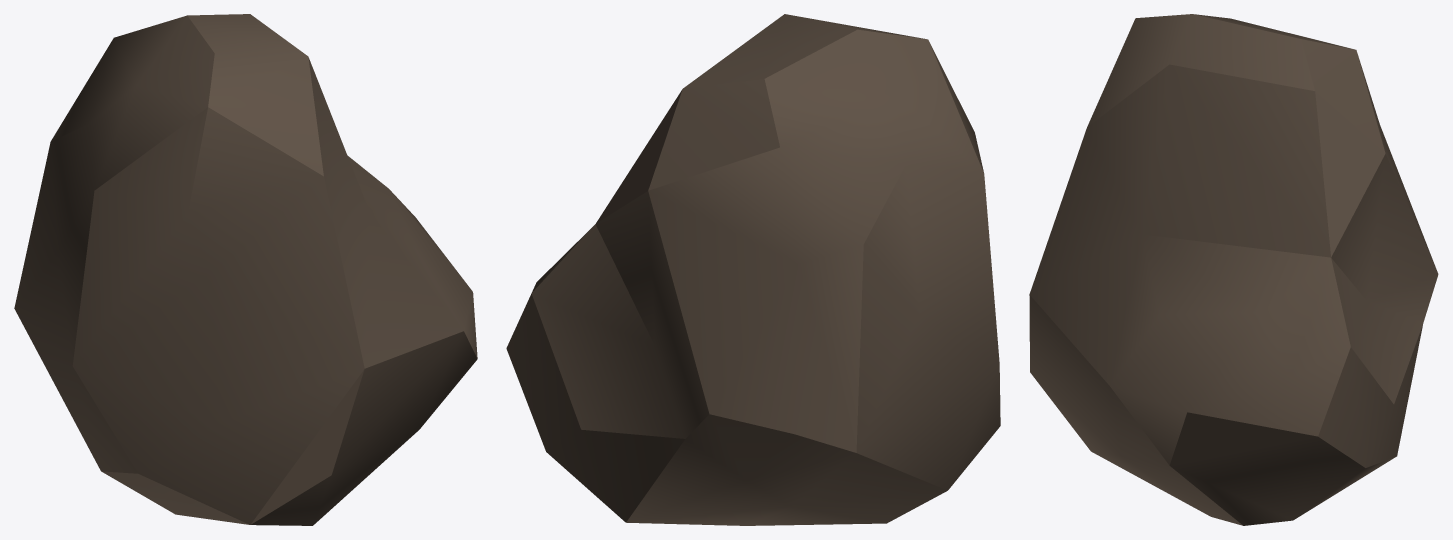
Rendered from rock_009.fbx.
3 renders of one model, left to right at view 1: azimuth 30°, elevation 25°; view 2: azimuth 150°, elevation 25°; view 3: azimuth 270°, elevation 25°, orthographic. The views are drawn at different scales.
Parts seen in each view (by area): view 1: rock.009; view 2: rock.009; view 3: rock.009.
Boxes of the visible parts, x1,y1,x2,y2 form: rock.009: [14, 14, 477, 525]; rock.009: [506, 14, 1000, 525]; rock.009: [1029, 14, 1438, 525].
Size of the model in its own units: 120 by 138 by 112.
